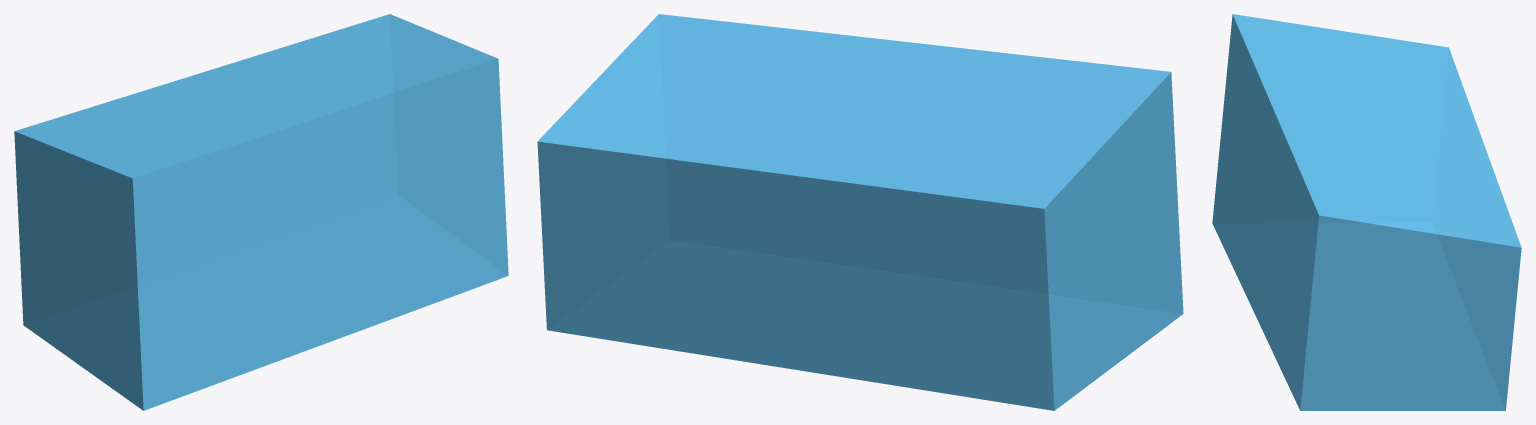
File: Event_421364160_HErechit_4.fbx
The picture shows the model from 3 angles, left to right: view 1: azimuth 30°, elevation 25°; view 2: azimuth 150°, elevation 25°; view 3: azimuth 270°, elevation 25°; orthographic projection. The views are drawn at different scales.
Visible parts, largest first — view 1: Model; view 2: Model; view 3: Model.
Part boxes in pixels (x1,y1,x2,y2): Model: (14, 14, 508, 410); Model: (537, 14, 1183, 410); Model: (1212, 14, 1521, 410).
Size of the model in its own units: 0.7238 by 0.3746 by 0.5014.
